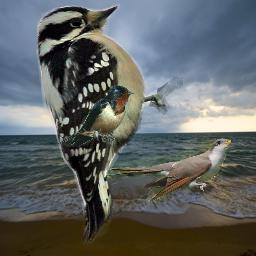Cuckoo: (107, 138, 231, 202)
Swallow: (56, 85, 134, 147)
Woodpecker: (33, 0, 183, 244)
